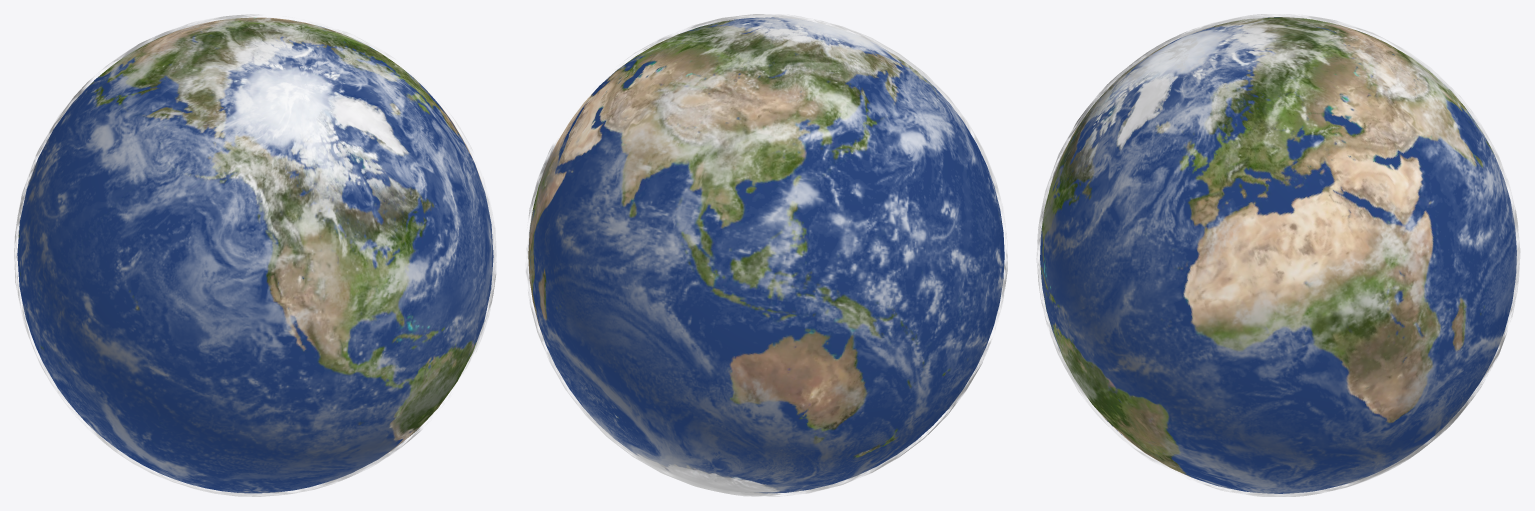
The model's file is Earth.glb.
3 renders of one model, left to right at view 1: azimuth 30°, elevation 25°; view 2: azimuth 150°, elevation 25°; view 3: azimuth 270°, elevation 25°, orthographic.
Parts seen in each view (by area): view 1: Earth, Earth_Clouds; view 2: Earth, Earth_Clouds; view 3: Earth, Earth_Clouds.
Part boxes in pixels (x1,y1,x2,y2): Earth: (17, 17, 493, 493); Earth_Clouds: (14, 14, 496, 496); Earth: (528, 17, 1004, 493); Earth_Clouds: (526, 14, 1007, 496); Earth: (1040, 17, 1516, 493); Earth_Clouds: (1036, 14, 1520, 496).
Bounding box in the file's own units: 2.03 × 2.03 × 2.03.
Materials: 2 (2 with a texture image).
